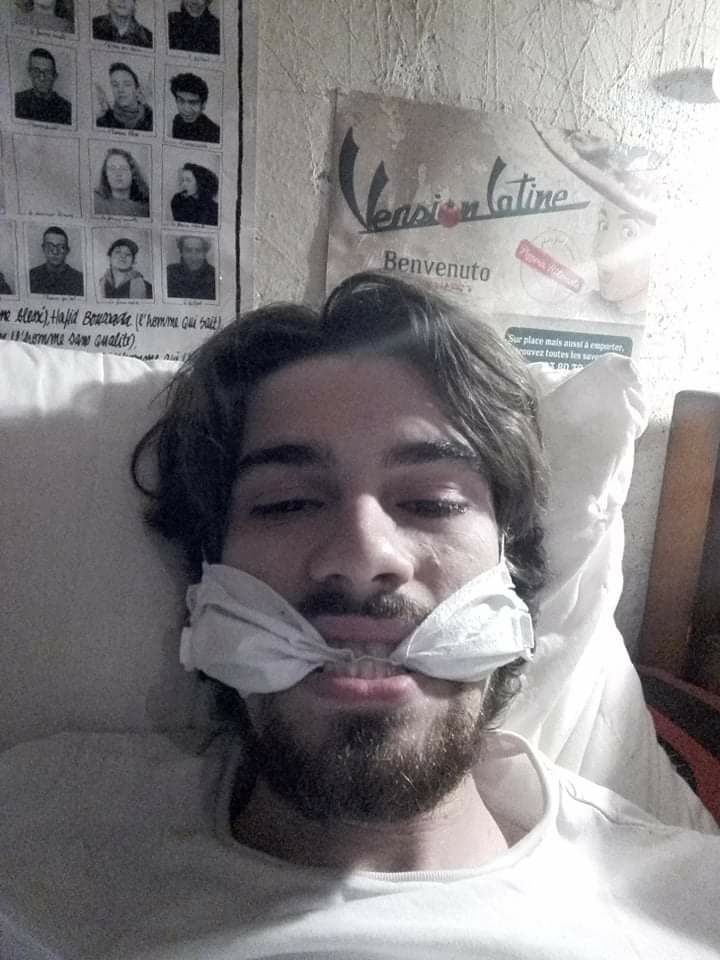with_incorrect_mask: (186, 353, 536, 826)
